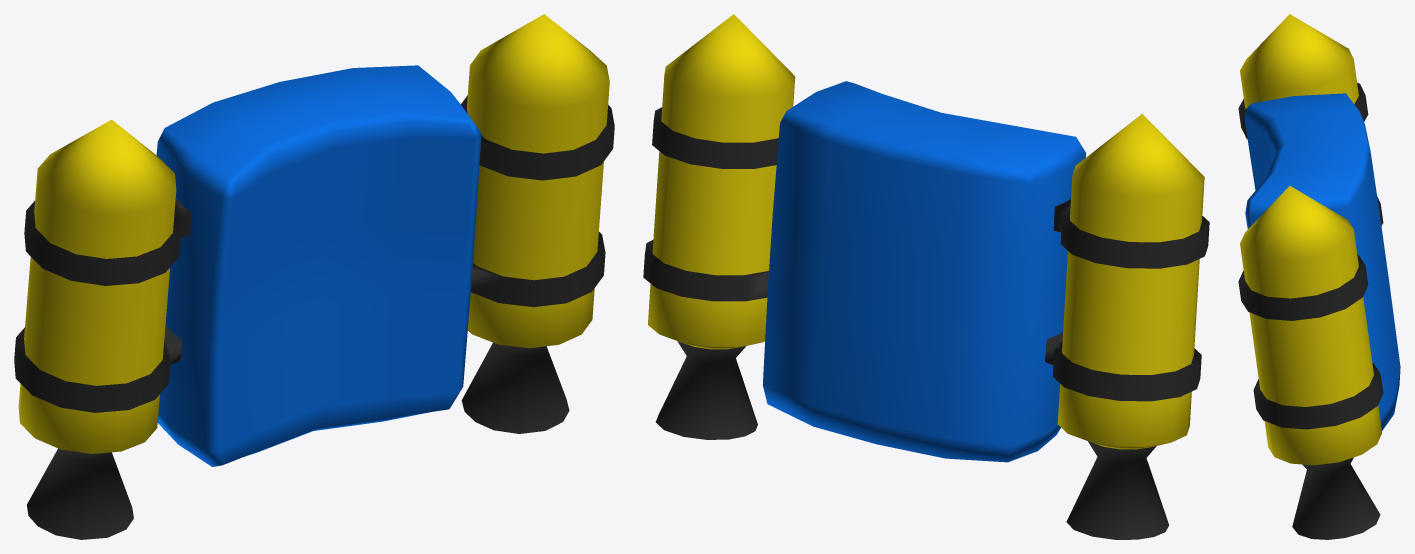
File: jetpack.fbx
3 renders of one model, left to right at view 1: azimuth 30°, elevation 25°; view 2: azimuth 150°, elevation 25°; view 3: azimuth 270°, elevation 25°, orthographic. The views are drawn at different scales.
Parts seen in each view (by area): view 1: Jetpack; view 2: Jetpack; view 3: Jetpack.
Boxes of the visible parts, box(x1,y1,x2,y2) form: Jetpack: box(14, 14, 614, 539); Jetpack: box(643, 14, 1209, 539); Jetpack: box(1238, 14, 1400, 539).
Bounding box in the file's own units: 17.03 × 11.99 × 5.18.
